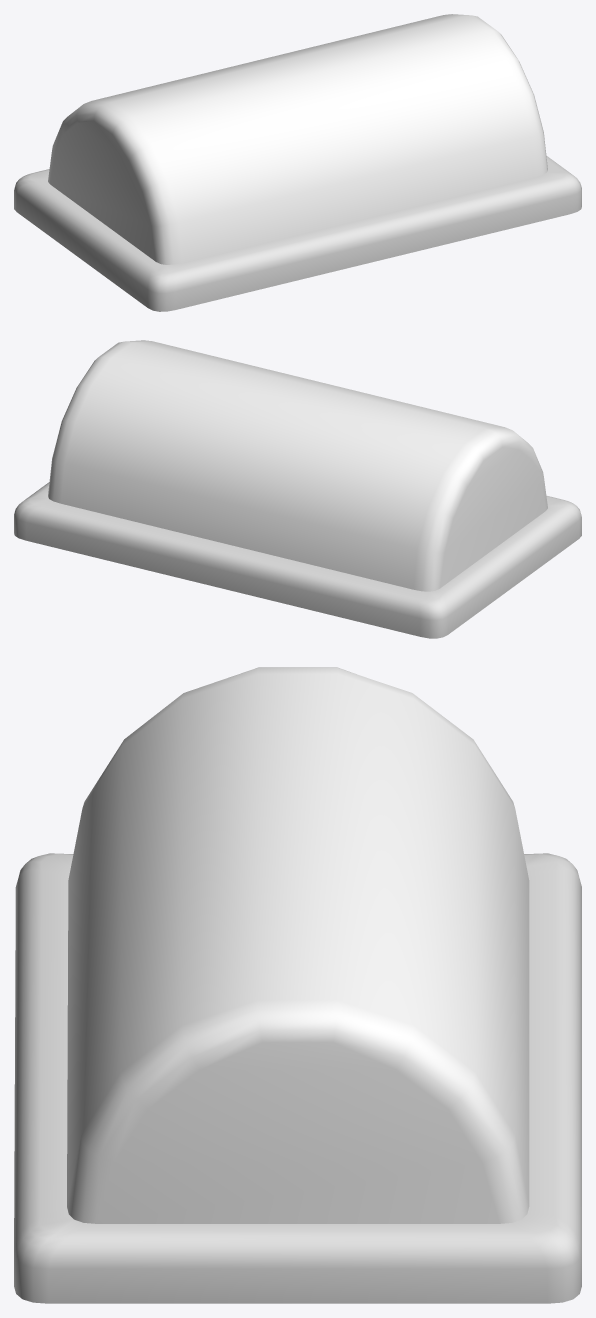
File: Static Obstacle.fbx
3 renders of one model, top to bottom at view 1: azimuth 30°, elevation 25°; view 2: azimuth 150°, elevation 25°; view 3: azimuth 270°, elevation 25°, orthographic. The views are drawn at different scales.
Visible parts, largest first — view 1: Cylinder006; view 2: Cylinder006; view 3: Cylinder006.
Part boxes in pixels (bbox=[...]): Cylinder006: bbox=[14, 14, 581, 311]; Cylinder006: bbox=[14, 340, 581, 638]; Cylinder006: bbox=[14, 667, 581, 1303].
Size of the model in its own units: 55.46 by 17.29 by 33.34.
2 materials, 2 textured.
